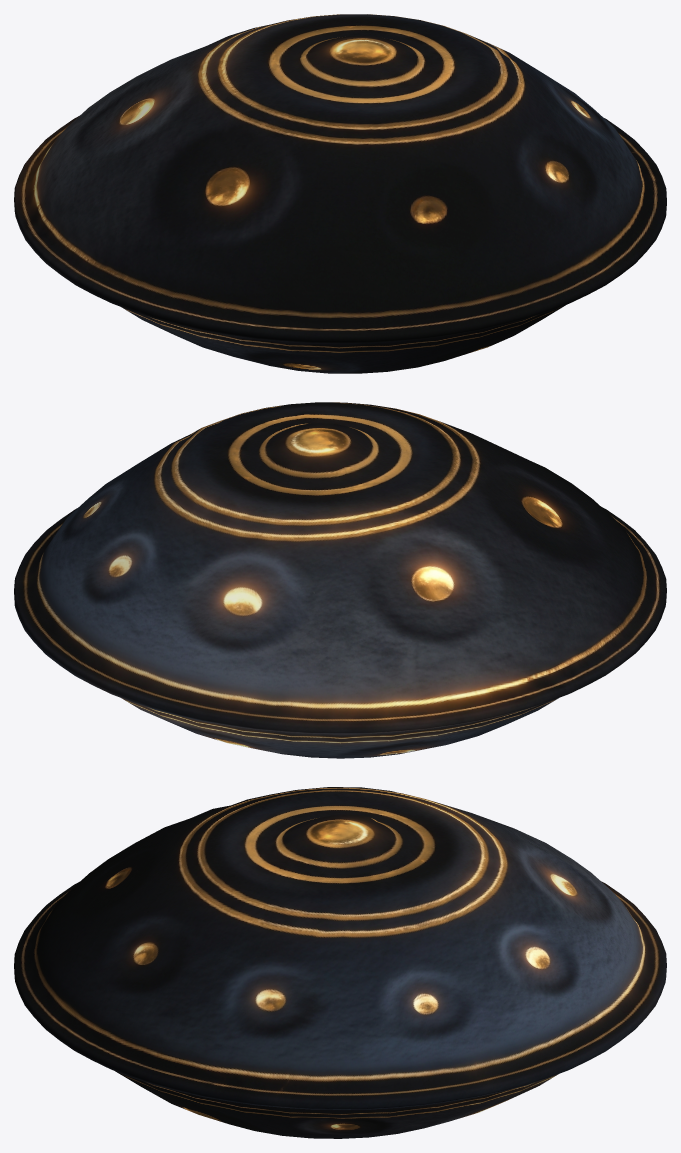
3 views of the same model, one above another, from view 1: azimuth 30°, elevation 25°; view 2: azimuth 150°, elevation 25°; view 3: azimuth 270°, elevation 25° (orthographic).
Visible parts, largest first — view 1: g; view 2: g; view 3: g.
Boxes of the visible parts, <box> form: g: <box>14,14,666,373</box>; g: <box>14,402,666,758</box>; g: <box>14,787,666,1138</box>.
Size of the model in its own units: 2 by 0.9154 by 2.
Materials: 1 (1 with a texture image).
